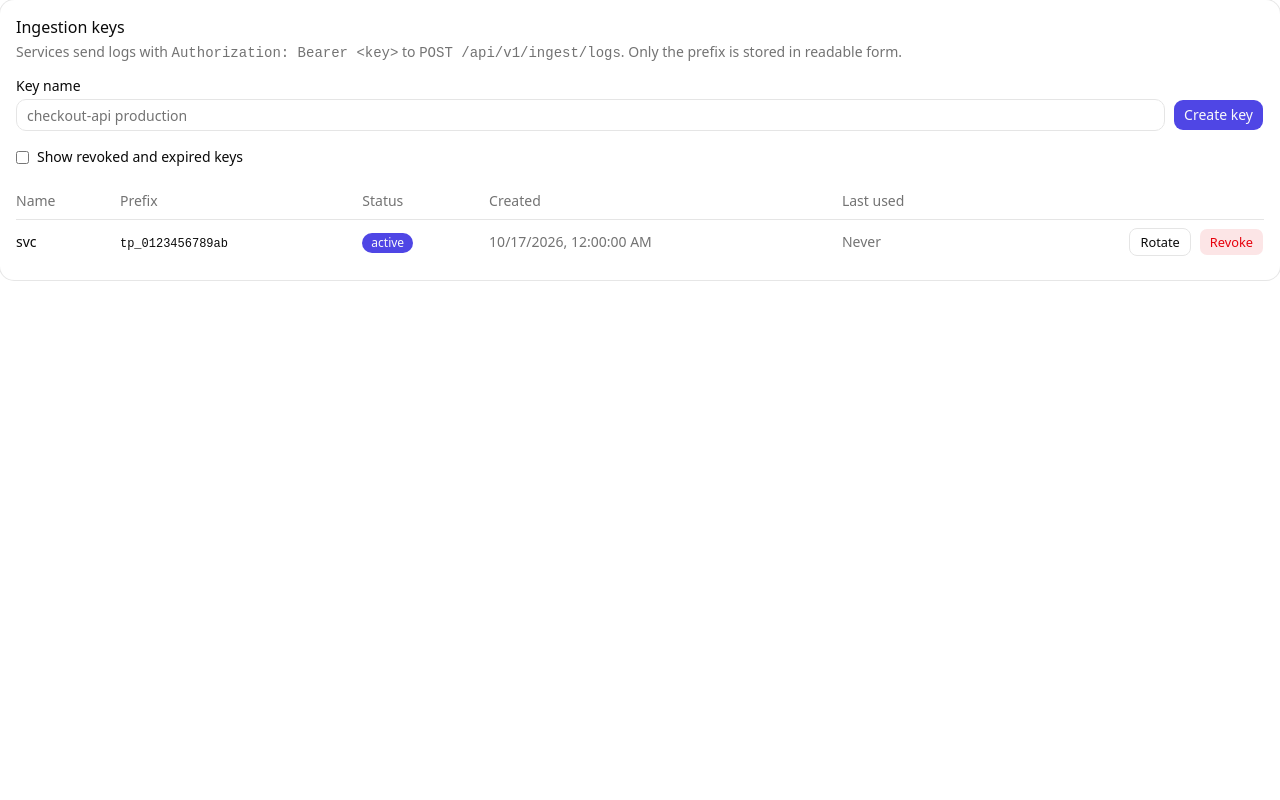
Test: IngestionKeysManager › revokes after confirmation and rotates showing the new key
The image size is (1280, 800).
Step 1. Click the button with aria-label "Revoke svc" → click(1231, 242), box left=1199, top=228, right=1264, bottom=256
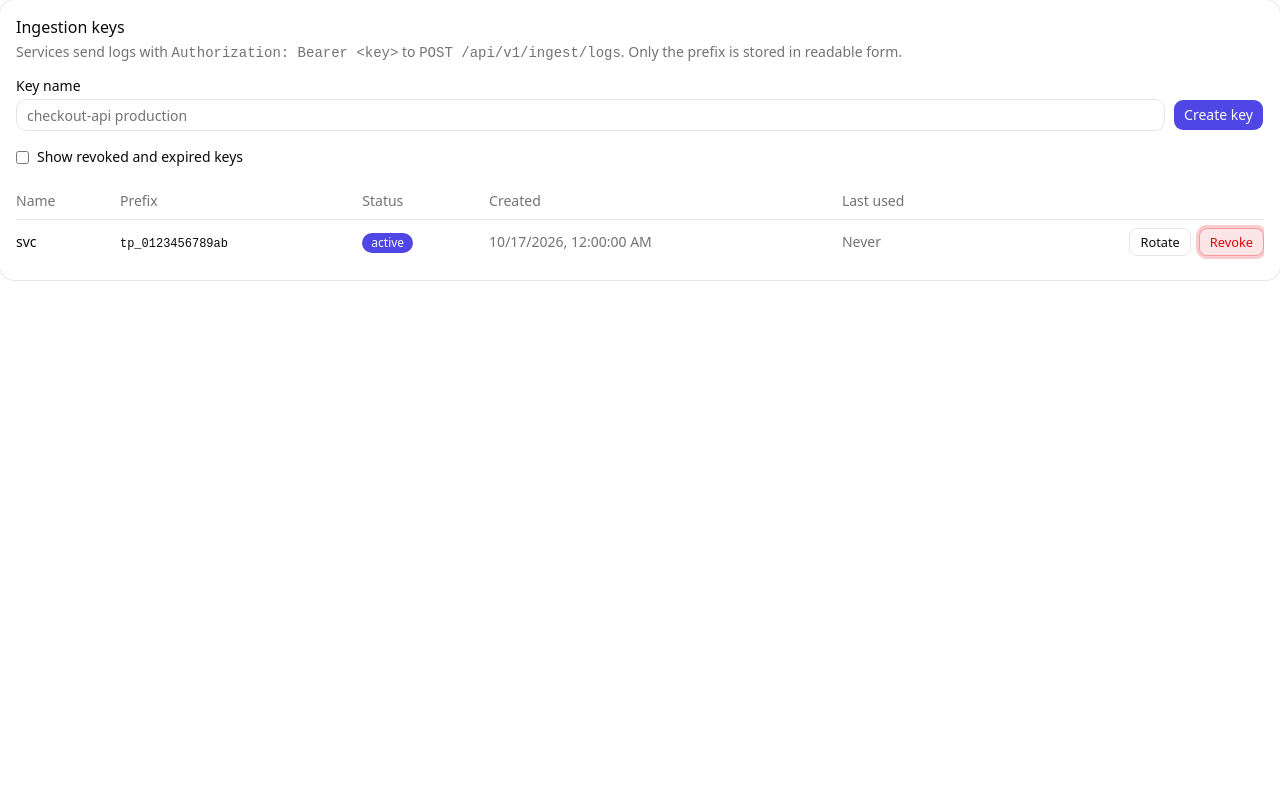
Step 2. Click the button with aria-label "Revoke svc" → click(1231, 242), box left=1199, top=228, right=1264, bottom=256
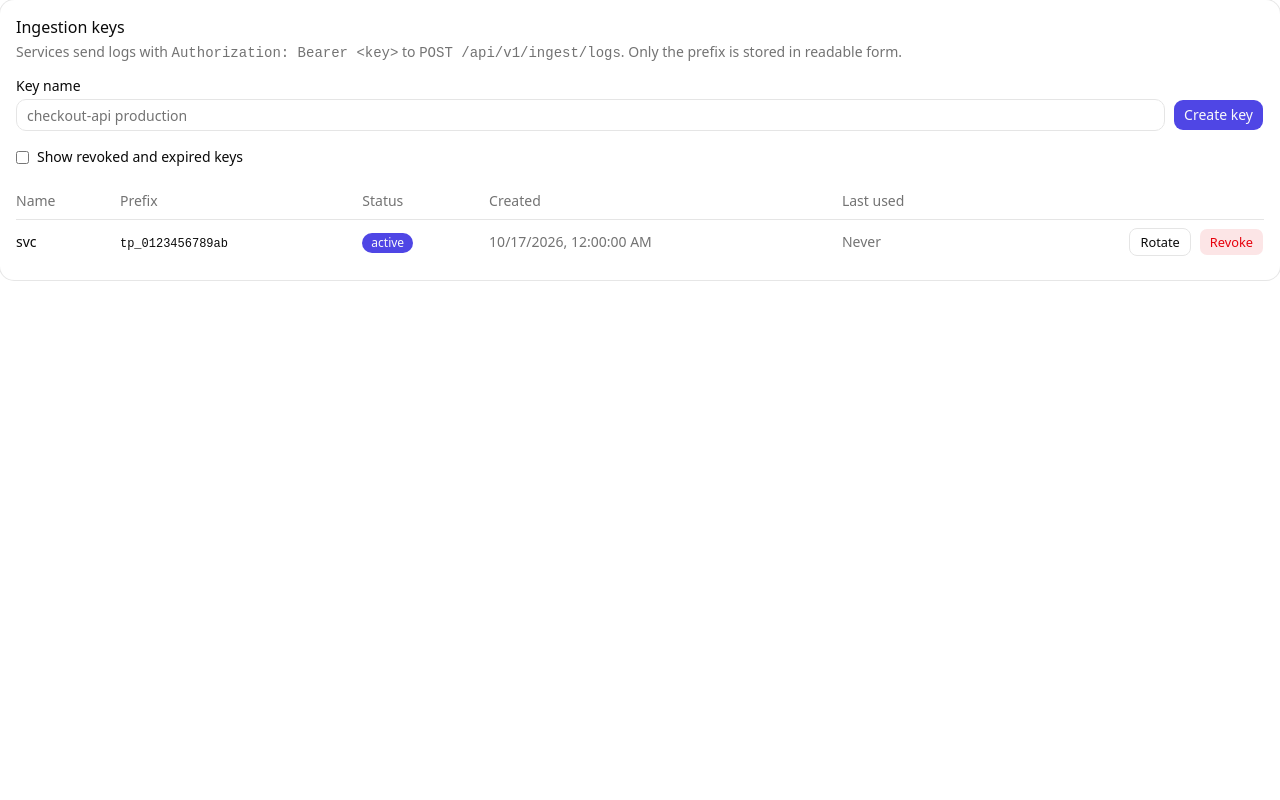
Step 3. Click the button with aria-label "Rotate svc" → click(1160, 242), box left=1129, top=228, right=1191, bottom=256
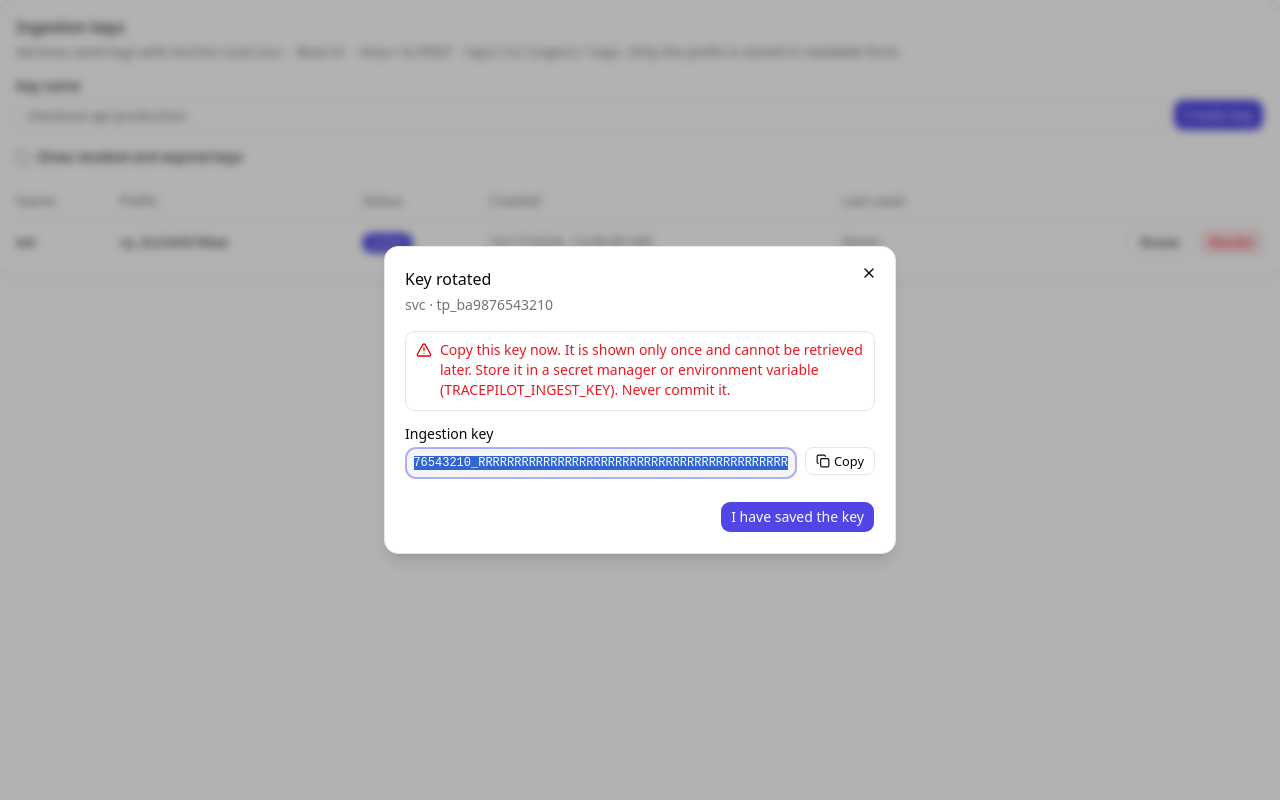
Result: the heading "Key rotated" is shown at left=405, top=268, right=491, bottom=290
